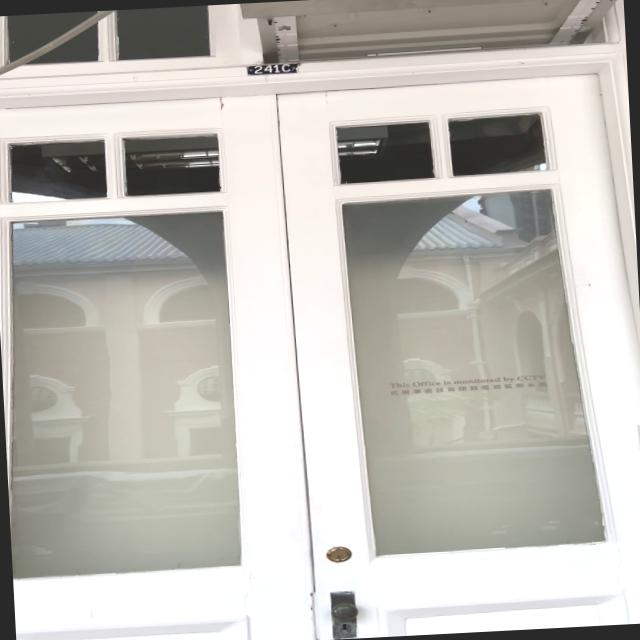room241c: (242, 60, 302, 80)
